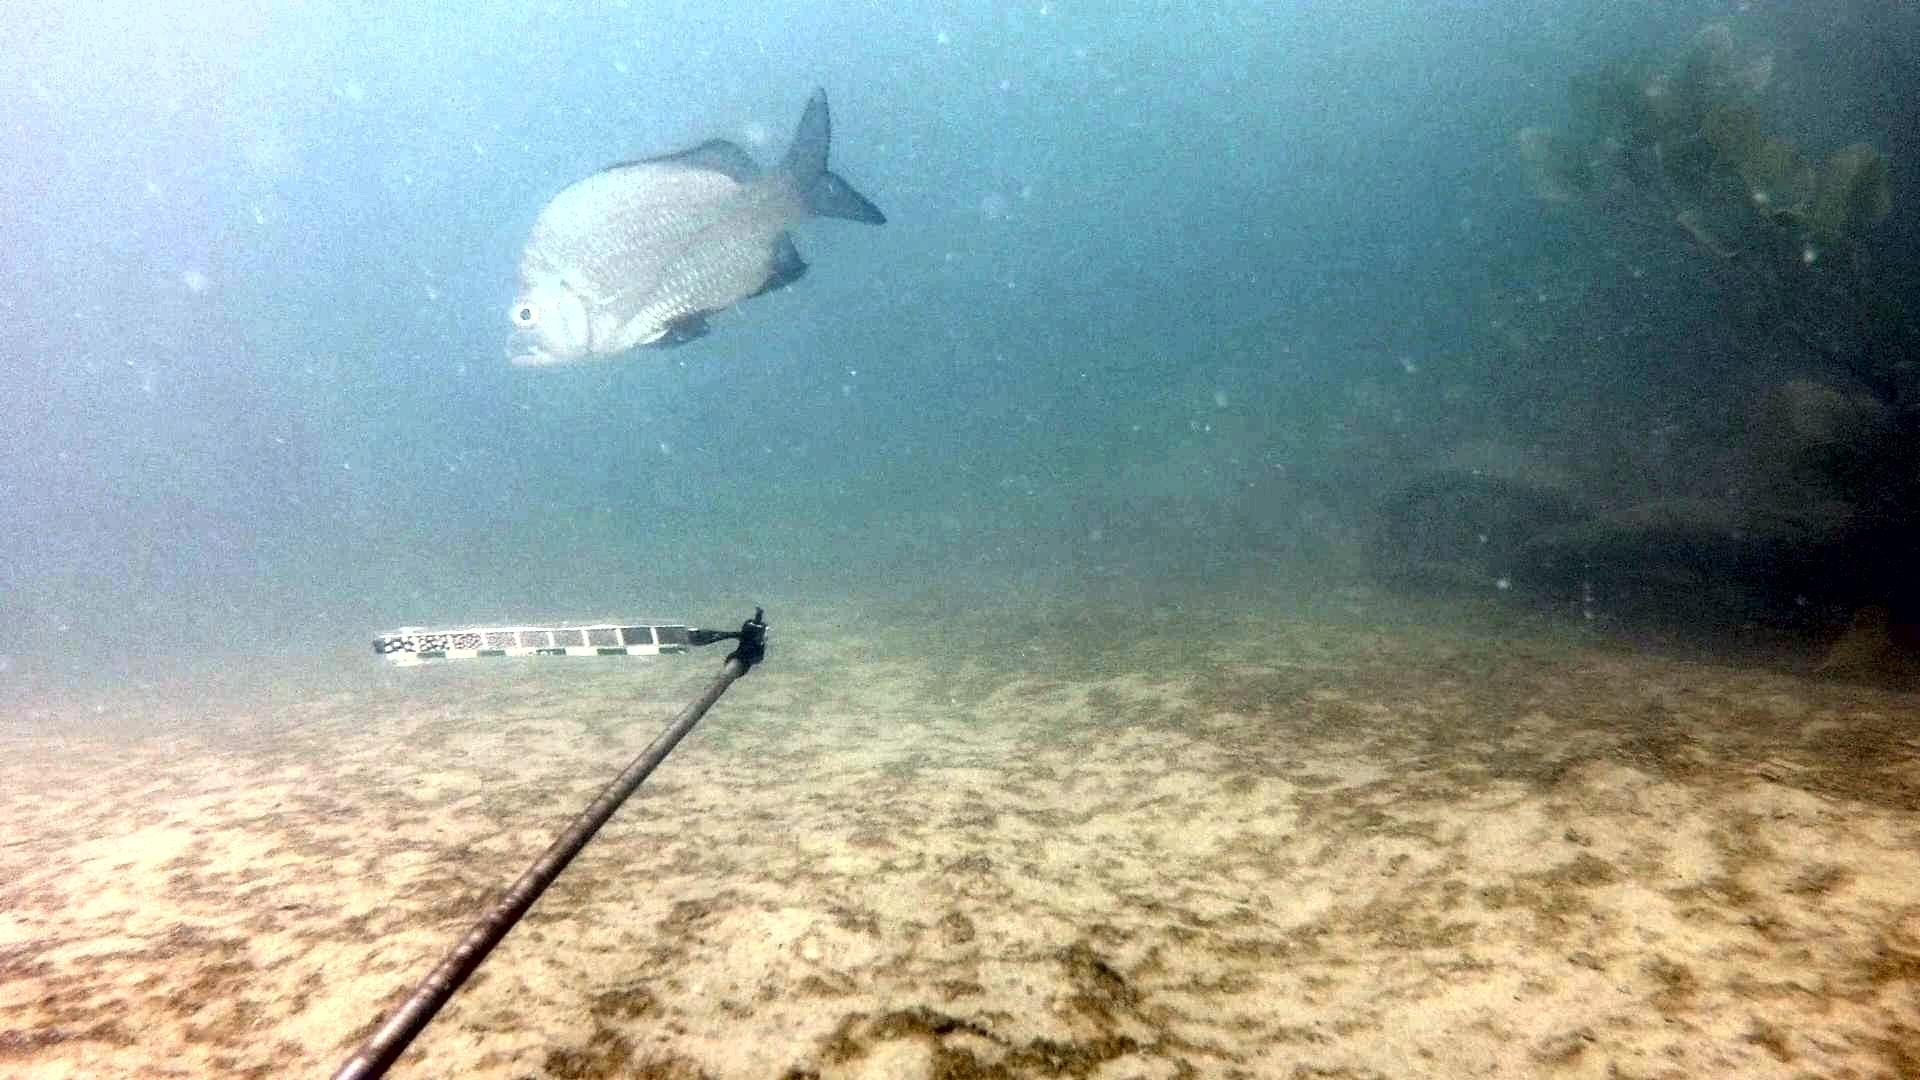acanthopagrus palmaris: (500, 78, 895, 384)
